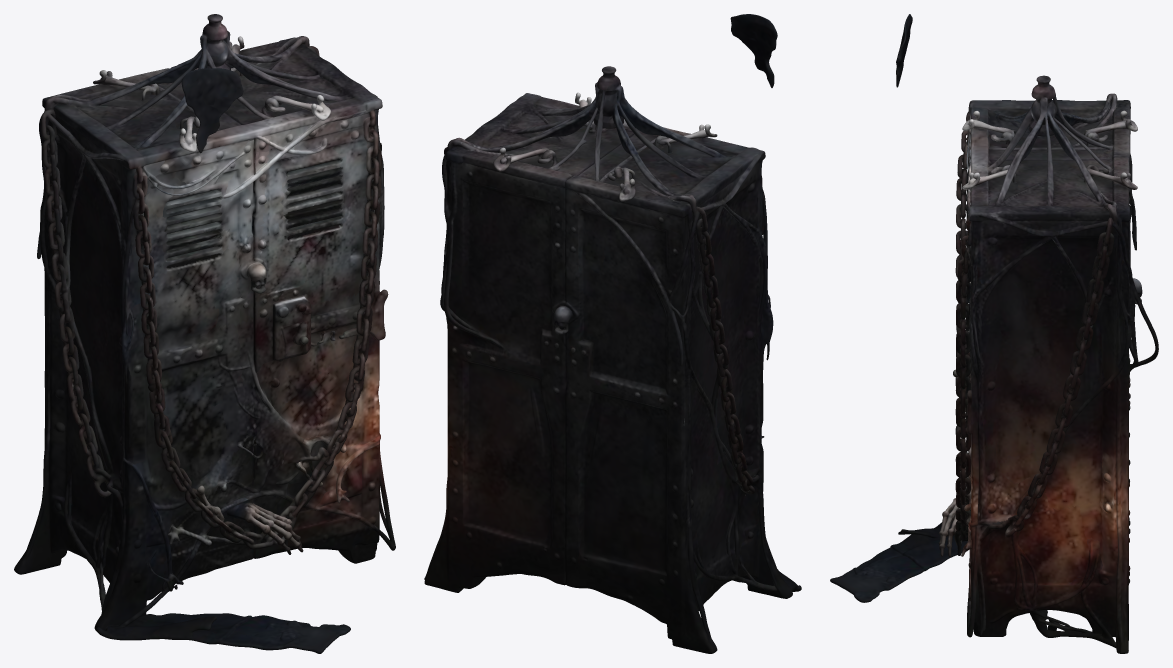
File: creepy+metal+locker+3d+model.glb
3 renders of one model, left to right at view 1: azimuth 30°, elevation 25°; view 2: azimuth 150°, elevation 25°; view 3: azimuth 270°, elevation 25°, orthographic. The views are drawn at different scales.
Visible parts, largest first — view 1: tripo_node_d17ece35-12d1-4d7e-9359-529de7ec0573; view 2: tripo_node_d17ece35-12d1-4d7e-9359-529de7ec0573; view 3: tripo_node_d17ece35-12d1-4d7e-9359-529de7ec0573.
Part boxes in pixels (left/top/right/bottom): tripo_node_d17ece35-12d1-4d7e-9359-529de7ec0573: left=14, top=14, right=395, bottom=653; tripo_node_d17ece35-12d1-4d7e-9359-529de7ec0573: left=424, top=14, right=801, bottom=653; tripo_node_d17ece35-12d1-4d7e-9359-529de7ec0573: left=830, top=14, right=1158, bottom=653.
Size of the model in its own units: 0.5726 by 1 by 0.5613.
Materials: 1 (1 with a texture image).
